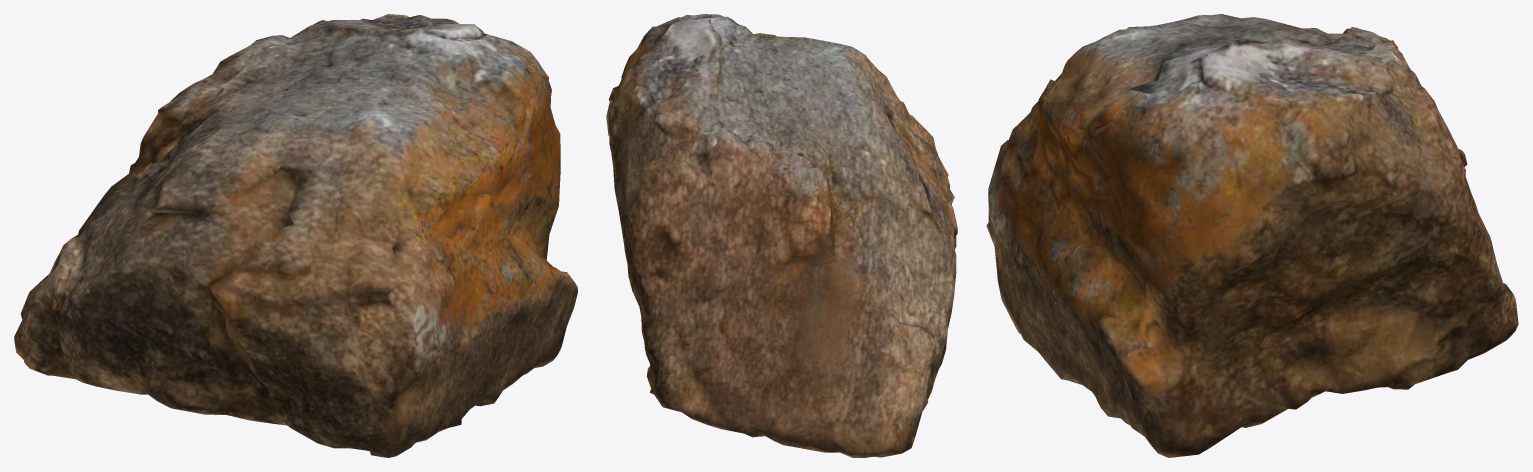
The model's file is rock_boulder_large.glb.
3 renders of one model, left to right at view 1: azimuth 30°, elevation 25°; view 2: azimuth 150°, elevation 25°; view 3: azimuth 270°, elevation 25°, orthographic. The views are drawn at different scales.
Visible parts, largest first — view 1: boulder_04; view 2: boulder_04; view 3: boulder_04.
Part boxes in pixels (x1=…): boulder_04: x1=14, y1=14, x2=577, y2=457; boulder_04: x1=606, y1=14, x2=957, y2=457; boulder_04: x1=986, y1=14, x2=1518, y2=457.
Bounding box in the file's own units: 2.52 × 1.89 × 2.49.
Materials: 1 (1 with a texture image).
